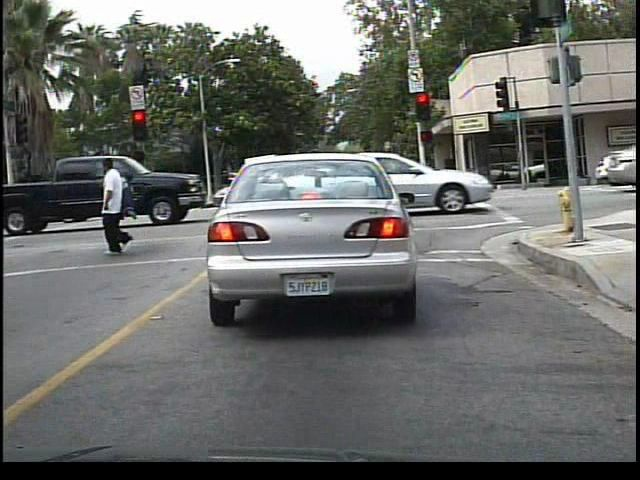person: (94, 153, 146, 255)
